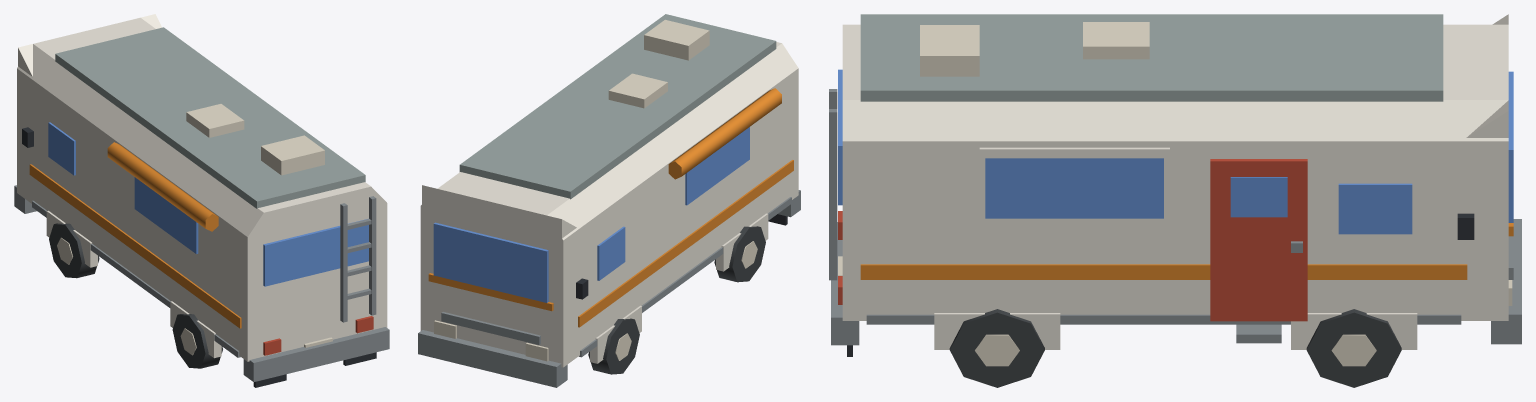
File: camping-car.glb
3 renders of one model, left to right at view 1: azimuth 30°, elevation 25°; view 2: azimuth 150°, elevation 25°; view 3: azimuth 270°, elevation 25°, orthographic. The views are drawn at different scales.
Parts seen in each view (by area): view 1: carrosserie, toit, vitre-arriere, pare-chocs-ar, bande-accent, auvent-replie, vitres-laterales, climatiseur, roue-avant-gauche-pneu, roue-arriere-gauche-pneu, lanterneau, vitres-cabine (+6 smaller); view 2: carrosserie, toit, pare-brise, pare-chocs-av, bande-accent, auvent-replie, vitres-laterales, climatiseur, roue-arriere-gauche-pneu, roue-avant-gauche-pneu, lanterneau, vitres-cabine (+7 smaller); view 3: carrosserie, toit, porte-laterale, vitres-laterales, bande-accent, roue-avant-droite-pneu, roue-arriere-droite-pneu, vitres-cabine, jupe, climatiseur, lanterneau, porte-hublot (+12 smaller).
Part boxes in pixels (x1,y1,x2,y2): carrosserie: [17, 17, 387, 361]; toit: [55, 27, 365, 208]; vitre-arriere: [263, 218, 368, 286]; pare-chocs-ar: [243, 327, 389, 381]; bande-accent: [29, 164, 241, 328]; auvent-replie: [107, 142, 218, 231]; vitres-laterales: [134, 177, 198, 253]; climatiseur: [261, 135, 324, 175]; roue-avant-gauche-pneu: [49, 223, 99, 278]; roue-arriere-gauche-pneu: [172, 314, 222, 368]; lanterneau: [186, 104, 244, 137]; vitres-cabine: [48, 122, 75, 175]; carrosserie: [420, 42, 798, 367]; toit: [459, 14, 776, 199]; pare-brise: [433, 222, 548, 302]; pare-chocs-av: [418, 330, 567, 387]; bande-accent: [578, 160, 793, 327]; auvent-replie: [668, 88, 781, 179]; vitres-laterales: [685, 127, 749, 205]; climatiseur: [644, 19, 709, 60]; roue-arriere-gauche-pneu: [714, 226, 765, 282]; roue-avant-gauche-pneu: [588, 318, 639, 374]; lanterneau: [608, 73, 667, 108]; vitres-cabine: [597, 226, 625, 280]; carrosserie: [842, 24, 1508, 320]; toit: [860, 14, 1443, 101]; porte-laterale: [1210, 159, 1307, 321]; vitres-laterales: [985, 158, 1163, 218]; bande-accent: [860, 264, 1467, 279]; roue-avant-droite-pneu: [1306, 309, 1401, 387]; roue-arriere-droite-pneu: [949, 309, 1044, 387]; vitres-cabine: [1338, 183, 1412, 234]; jupe: [866, 314, 1461, 324]; climatiseur: [920, 25, 979, 76]; lanterneau: [1083, 22, 1149, 59]; porte-hublot: [1230, 177, 1287, 217].
Bounding box in the file's own units: 0.115 × 0.145 × 0.3.
